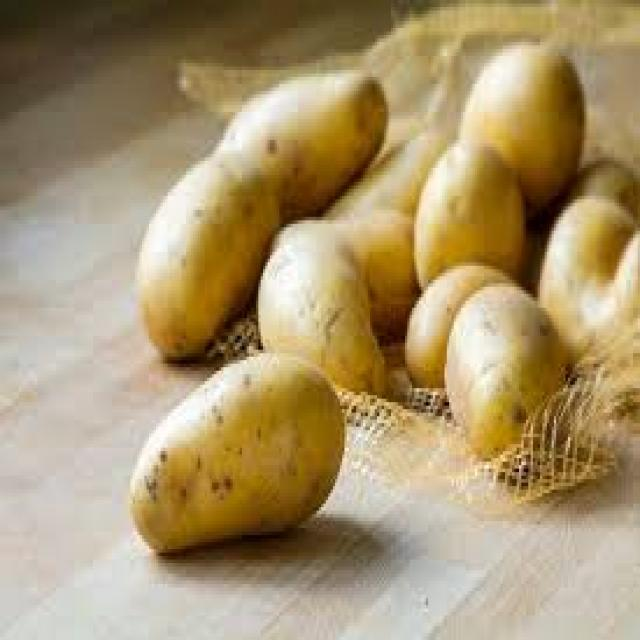organic waste: (128, 346, 342, 556), (135, 144, 282, 360), (216, 70, 386, 217), (442, 276, 566, 462), (254, 217, 384, 392), (459, 38, 584, 217), (412, 137, 524, 290), (538, 192, 633, 350), (400, 258, 510, 384), (326, 203, 419, 336), (326, 126, 454, 217), (554, 154, 635, 213)
